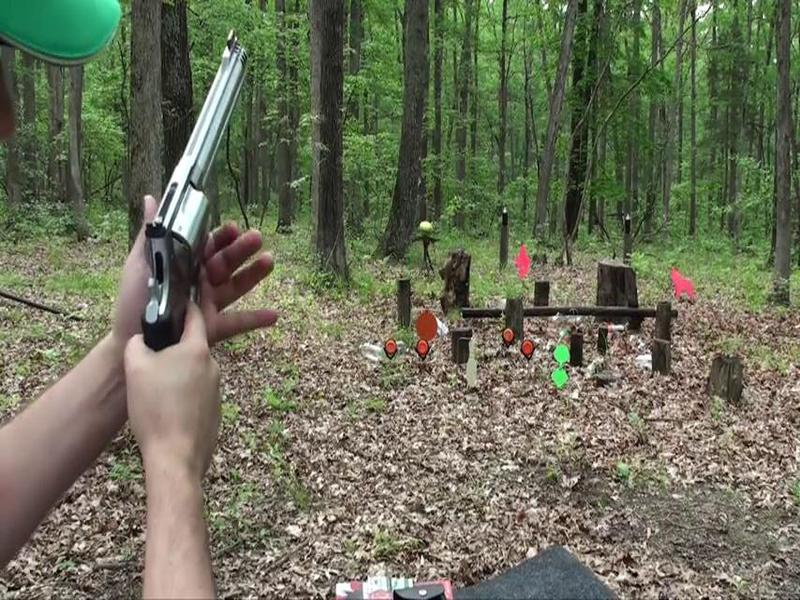Revolver: (131, 39, 262, 358)
